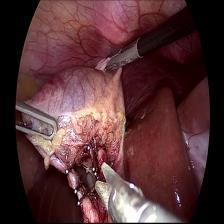Grasper: (11, 102, 58, 142), (102, 40, 144, 72)
Scissors: (92, 157, 142, 224)
